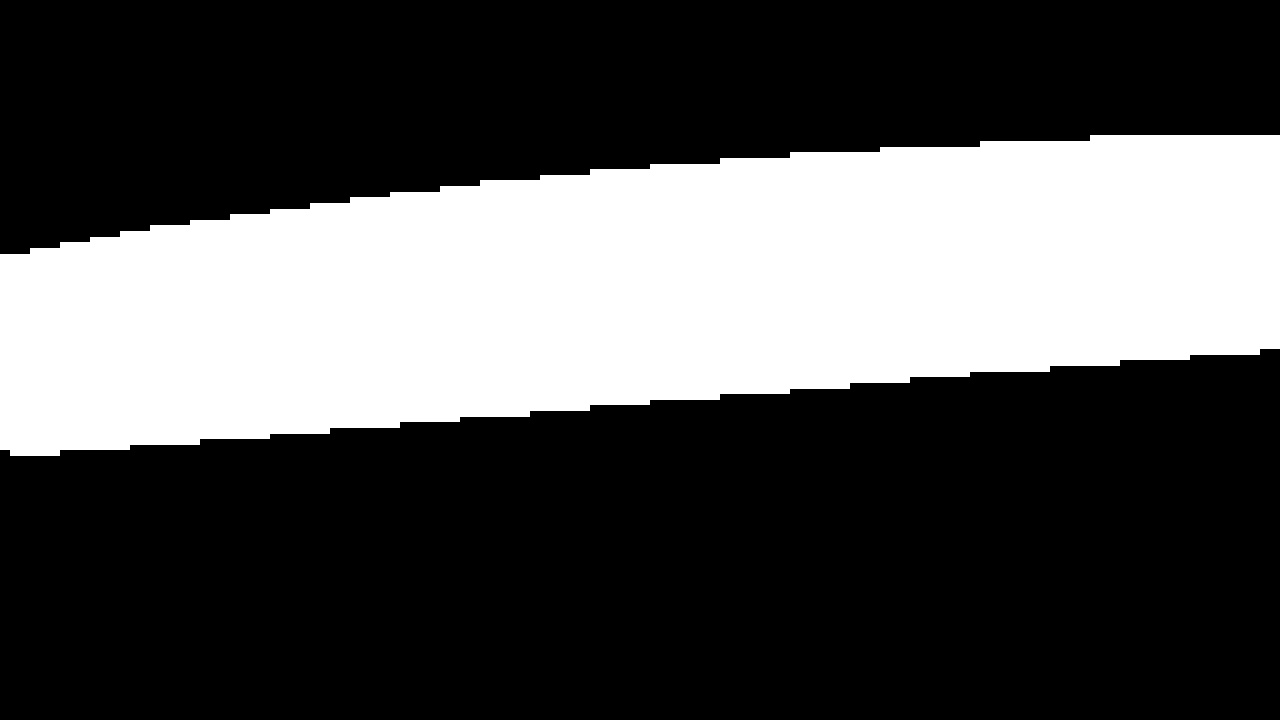Turbine: (5, 119, 1271, 486)
